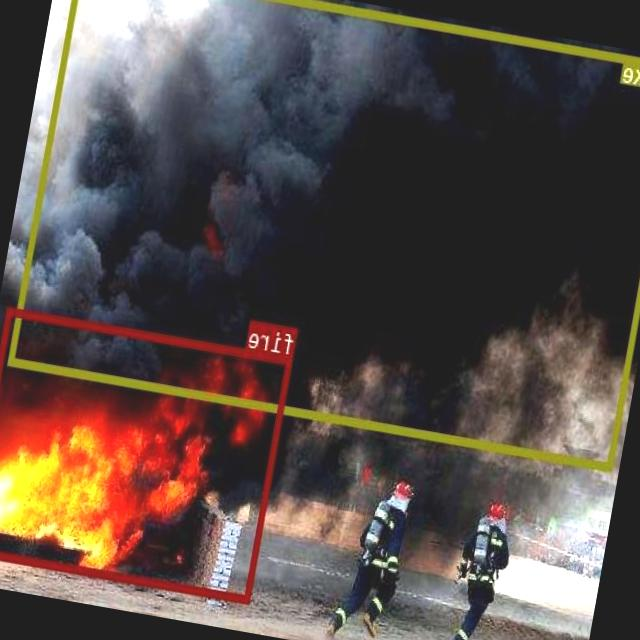fire: (0, 306, 294, 603)
smoke: (8, 0, 640, 469)
